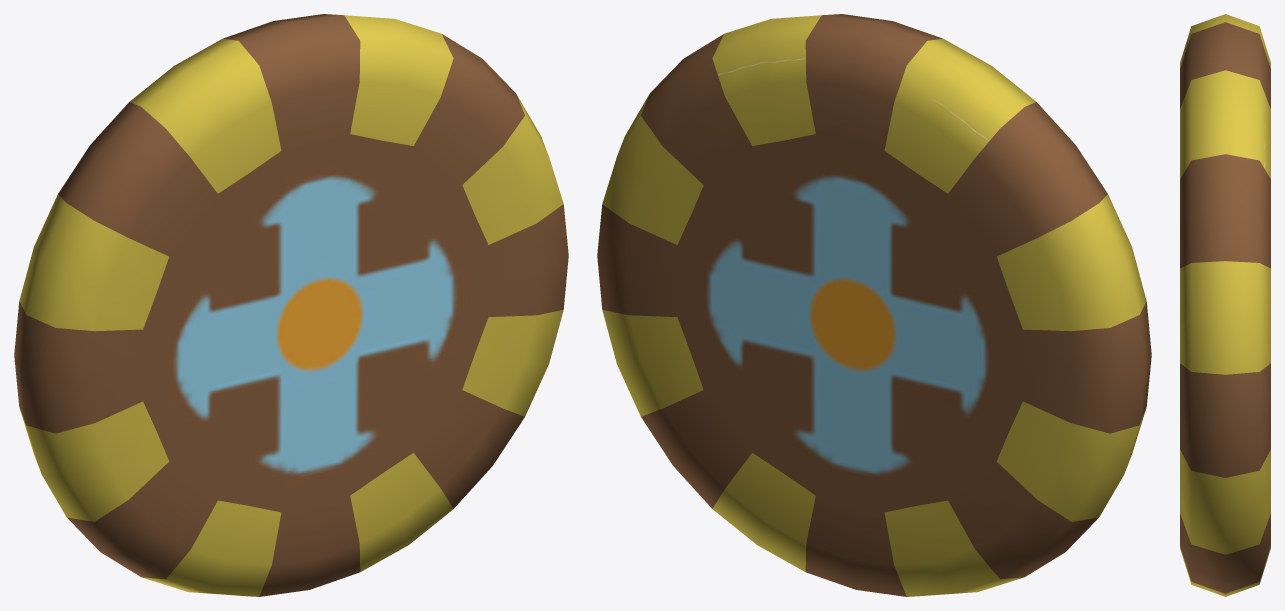
Rendered from Efecto_Escudo.fbx.
3 renders of one model, left to right at view 1: azimuth 30°, elevation 25°; view 2: azimuth 150°, elevation 25°; view 3: azimuth 270°, elevation 25°, orthographic. The views are drawn at different scales.
Parts seen in each view (by area): view 1: pCylinder47; view 2: pCylinder47; view 3: pCylinder47.
Part boxes in pixels (<box>): pCylinder47: <box>14,14,568,596</box>; pCylinder47: <box>597,14,1151,596</box>; pCylinder47: <box>1180,14,1270,596</box>.
Size of the model in its own units: 1.96 by 1.96 by 0.3059.
Materials: 1 (1 with a texture image).
